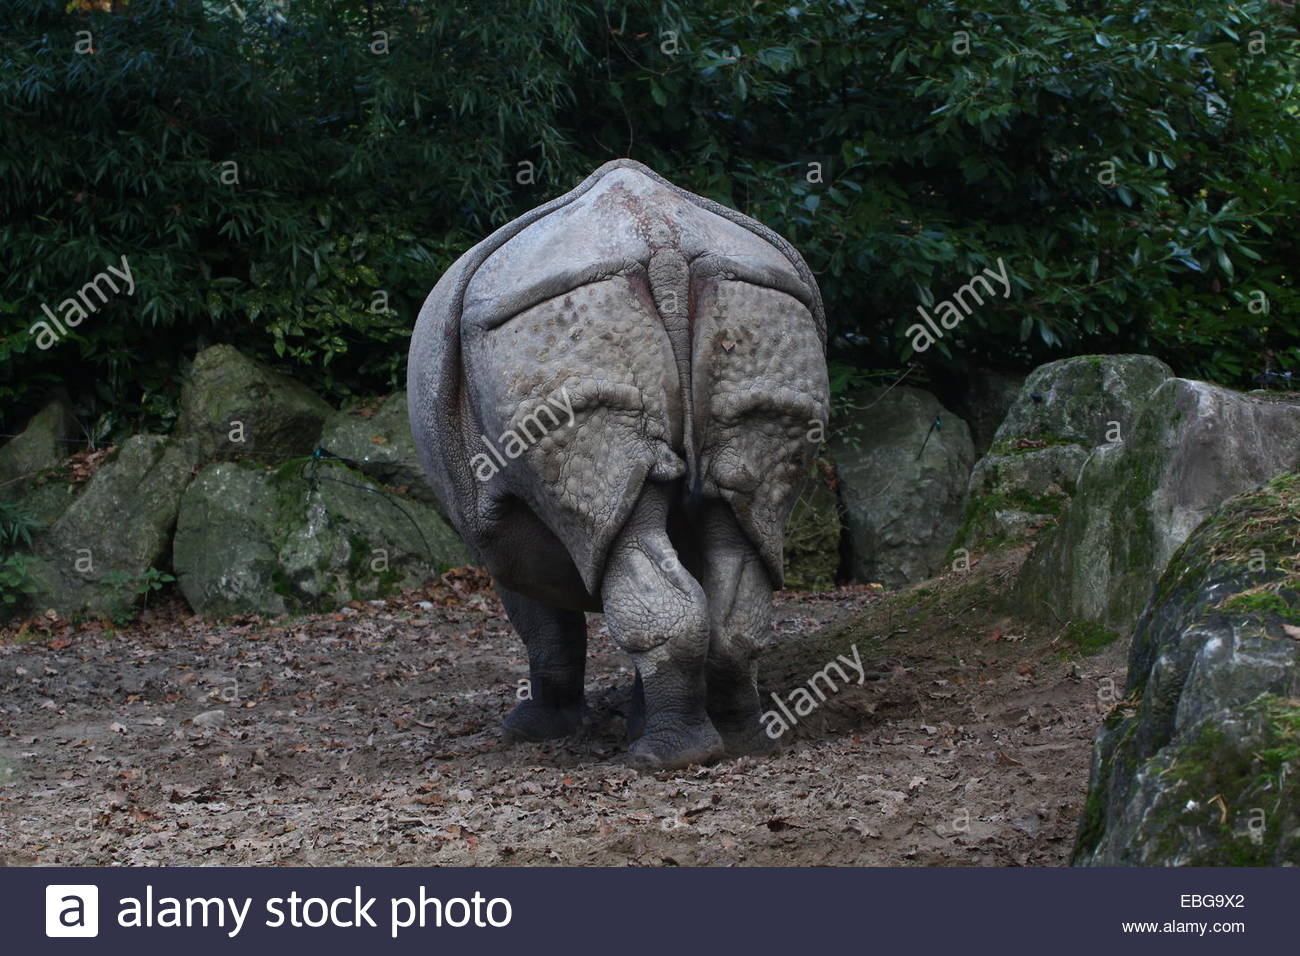rhinoceros: (404, 146, 845, 763)
